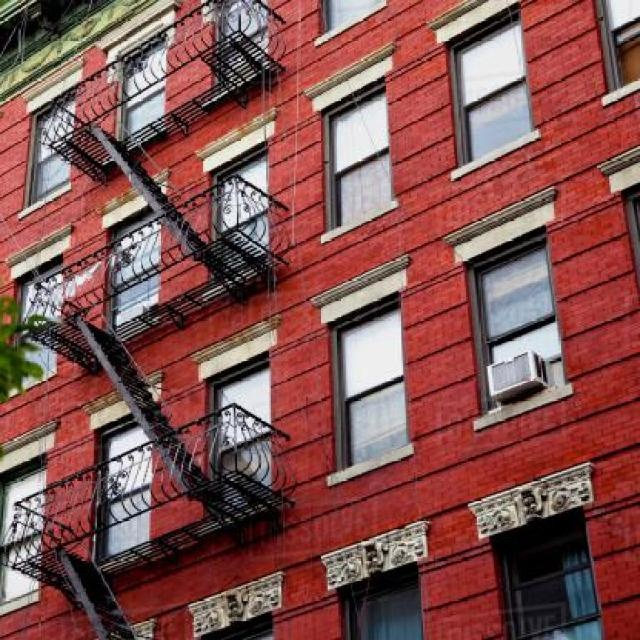stair: (44, 314, 265, 515), (66, 117, 248, 280), (15, 554, 167, 640)
